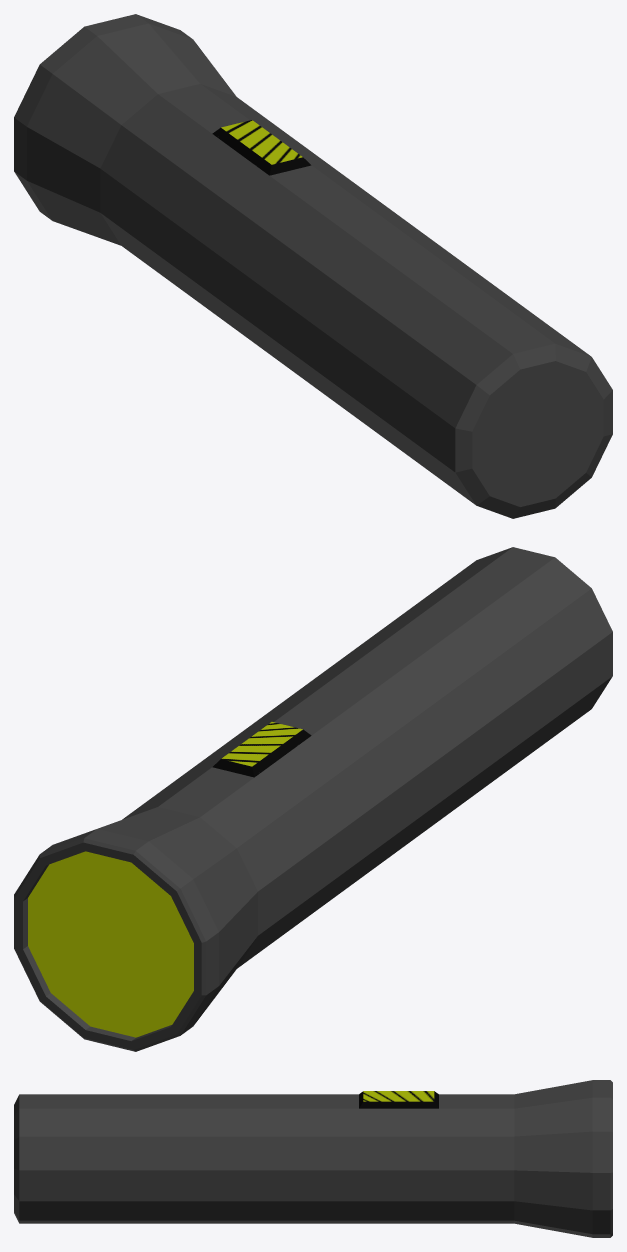
Rendered from flashlight1.fbx.
The picture shows the model from 3 angles, top to bottom: view 1: azimuth 30°, elevation 25°; view 2: azimuth 150°, elevation 25°; view 3: azimuth 270°, elevation 25°; orthographic projection. The views are drawn at different scales.
Visible parts, largest first — view 1: Cylinder; view 2: Cylinder; view 3: Cylinder.
Boxes of the visible parts, x1,y1,x2,y2 form: Cylinder: (14,14,612,518); Cylinder: (14,547,612,1051); Cylinder: (14,1080,612,1237).
Size of the model in its own units: 0.0442 by 0.171 by 0.0442.
Materials: 1 (1 with a texture image).
